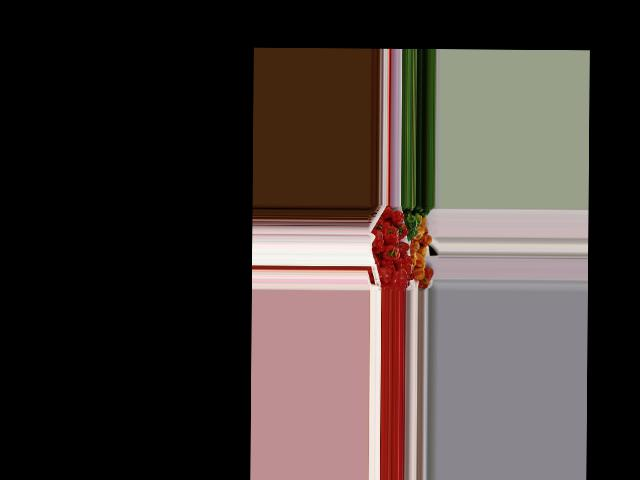bell_pepper: (370, 229, 384, 254)
